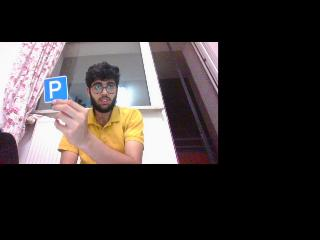parking: (43, 78, 69, 102)
